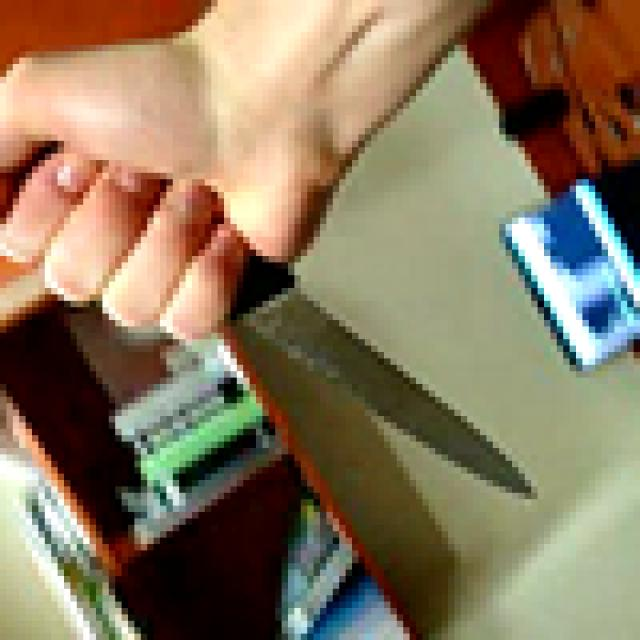Knife: (45, 147, 538, 506)
